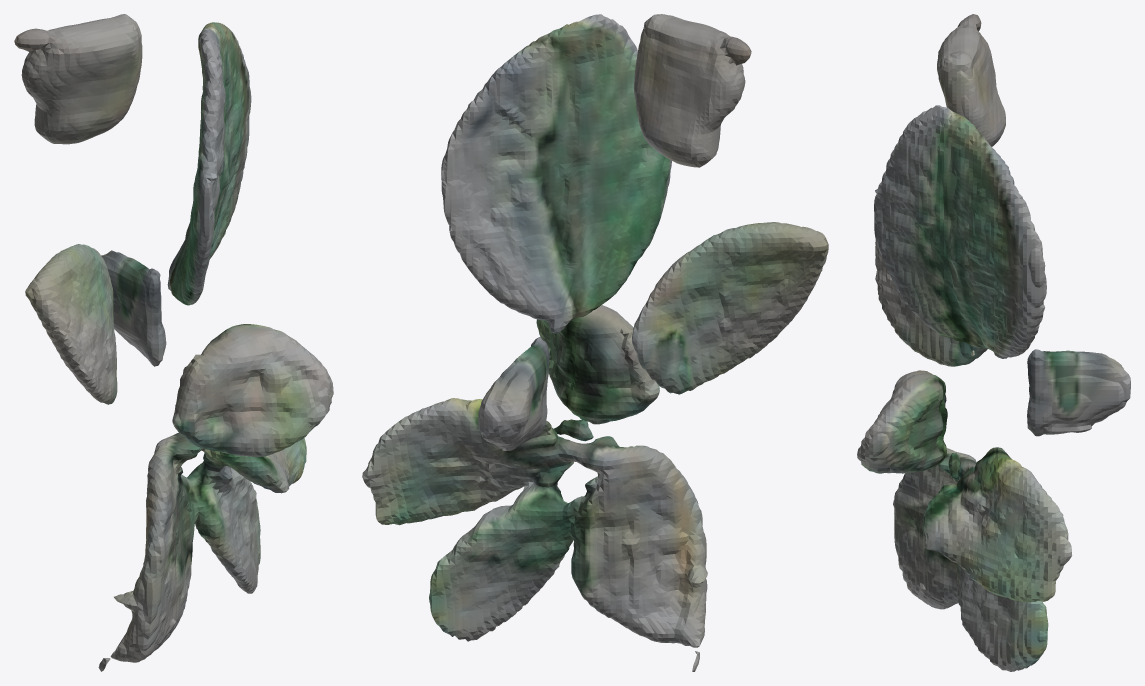
The model's file is anubias-barteri-var-nana.glb.
The picture shows the model from 3 angles, left to right: view 1: azimuth 30°, elevation 25°; view 2: azimuth 150°, elevation 25°; view 3: azimuth 270°, elevation 25°; orthographic projection. The views are drawn at different scales.
Visible parts, largest first — view 1: world; view 2: world; view 3: world.
Part boxes in pixels (bbox=[...]): world: bbox=[14, 14, 333, 671]; world: bbox=[362, 14, 828, 671]; world: bbox=[857, 14, 1130, 671].
Size of the model in its own units: 0.5982 by 1.02 by 0.4498.
